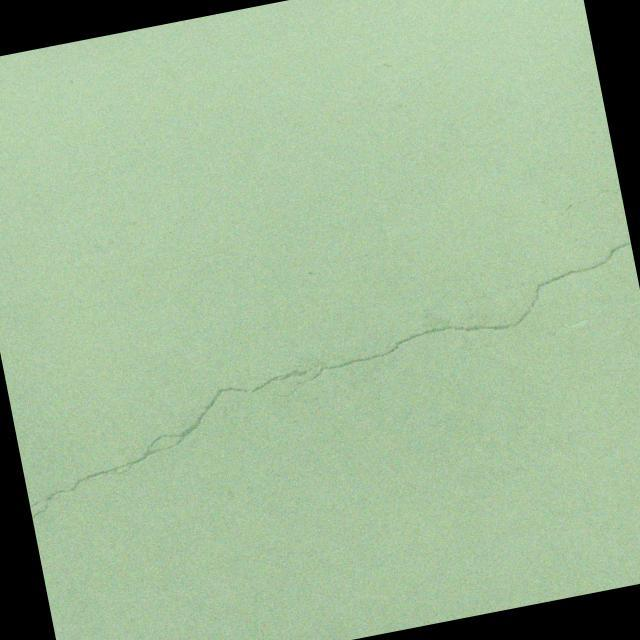crack: (2, 240, 640, 519), (534, 185, 626, 232)
